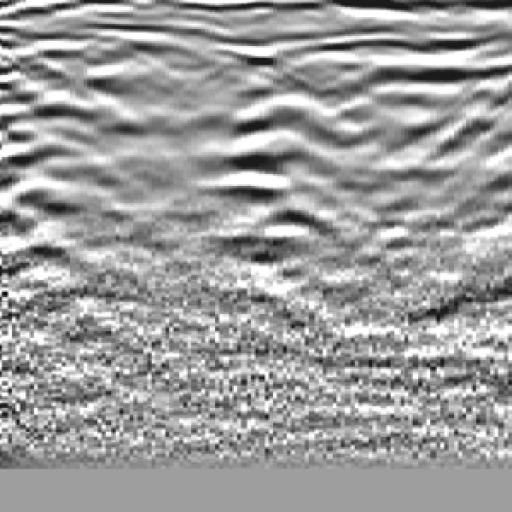metalic: (181, 24, 346, 277)
nonmetalic: (1, 38, 104, 285)
